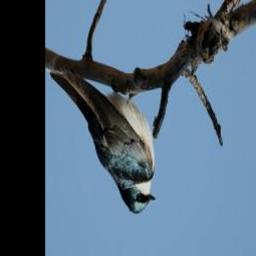Swallow: (49, 68, 158, 217)
